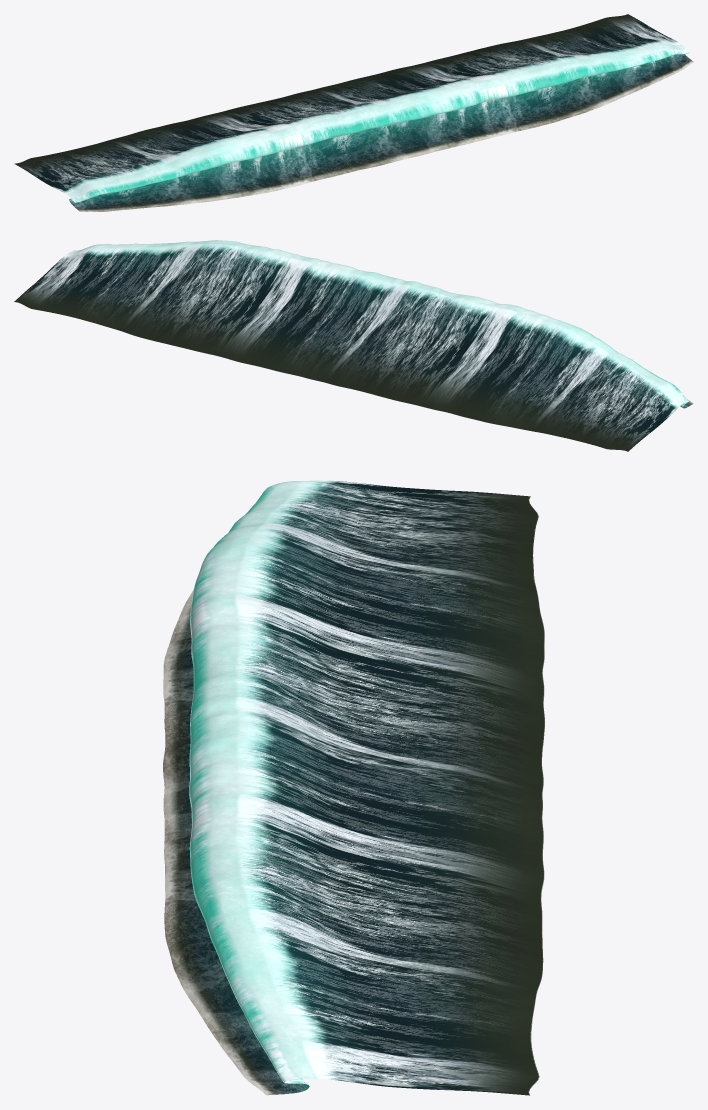
Rendered from wave_b.glb.
3 renders of one model, top to bottom at view 1: azimuth 30°, elevation 25°; view 2: azimuth 150°, elevation 25°; view 3: azimuth 270°, elevation 25°, orthographic. The views are drawn at different scales.
Bounding box in the file's own units: 601 × 40.68 × 162.
1 material, 1 textured.
